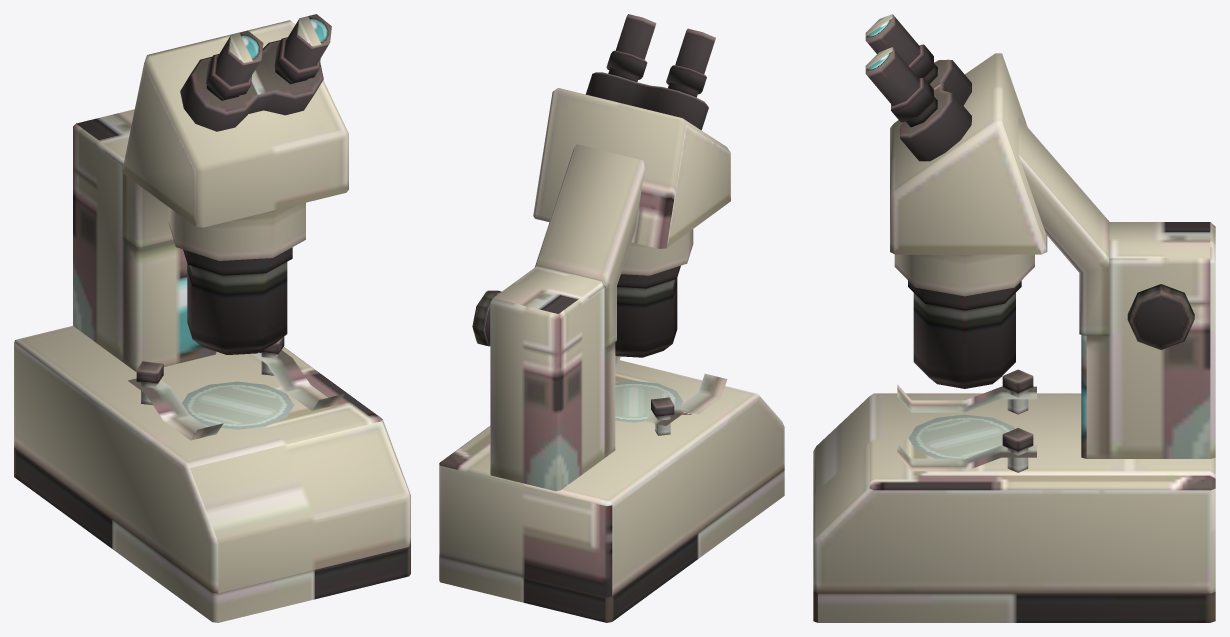
The model's file is int_sch_microscope.dae.
The picture shows the model from 3 angles, left to right: view 1: azimuth 30°, elevation 25°; view 2: azimuth 150°, elevation 25°; view 3: azimuth 270°, elevation 25°; orthographic projection. The views are drawn at different scales.
Parts seen in each view (by area): view 1: int_sch_microscope; view 2: int_sch_microscope; view 3: int_sch_microscope.
Part boxes in pixels (bbox=[...]): int_sch_microscope: bbox=[14, 14, 410, 622]; int_sch_microscope: bbox=[439, 14, 784, 622]; int_sch_microscope: bbox=[813, 14, 1215, 622].
Bounding box in the file's own units: 9.4 × 24.67 × 16.65.
Materials: 2 (2 with a texture image).
